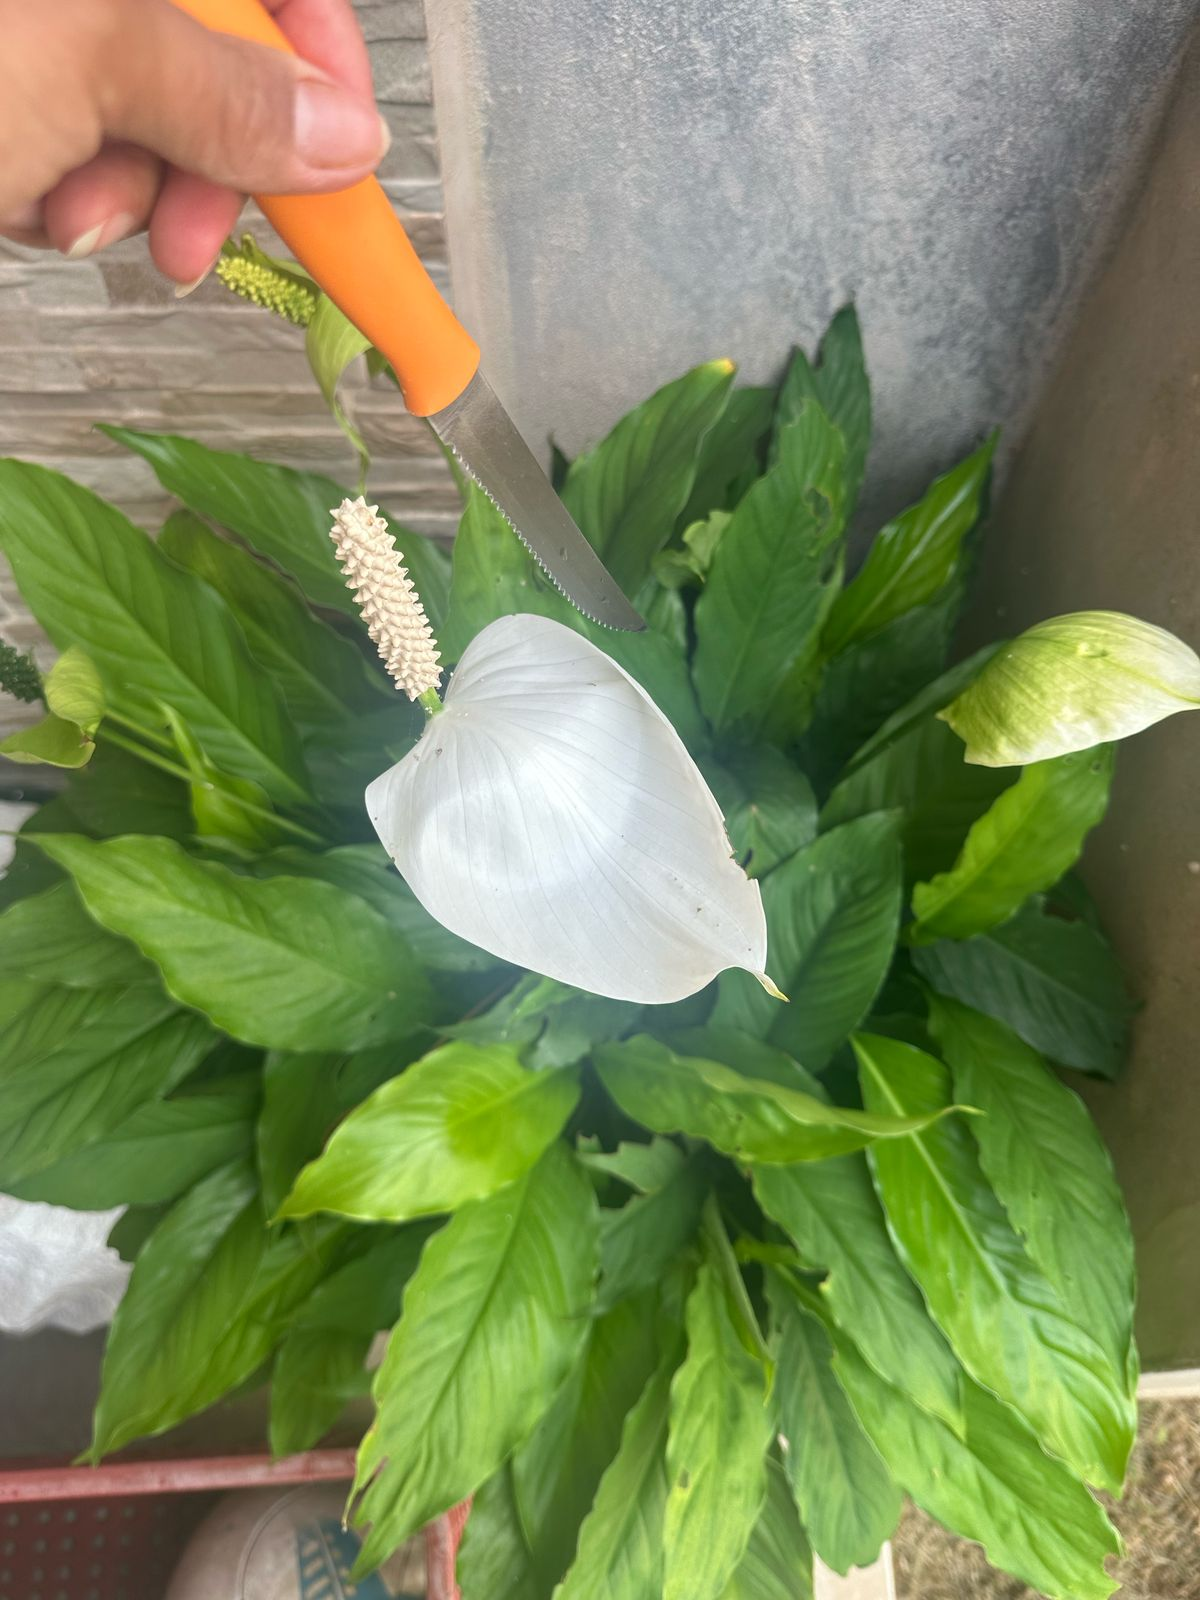faca: (255, 197, 649, 630)
